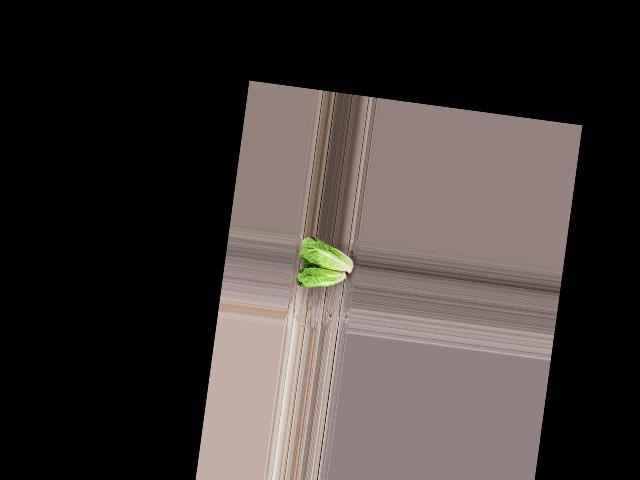lettuce: (296, 233, 359, 274)
